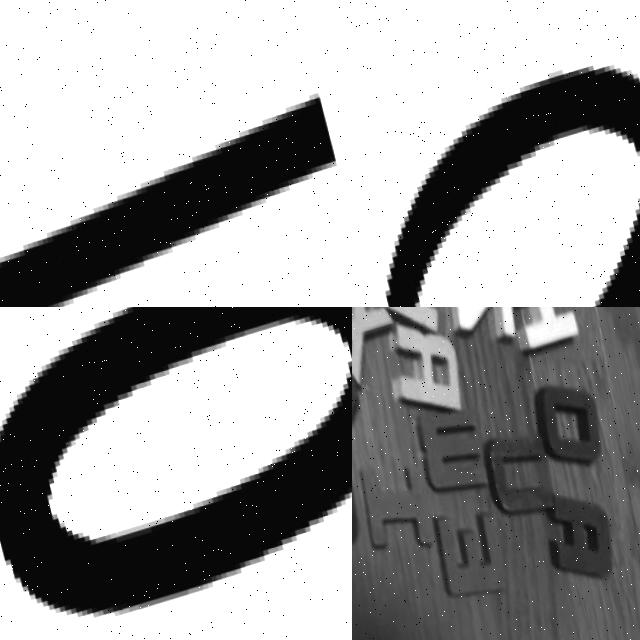6: (352, 0, 640, 307)
A: (540, 494, 617, 595)
E: (421, 513, 508, 617)
H: (496, 307, 578, 366)
I: (352, 454, 434, 569)
L: (0, 0, 352, 307), (357, 307, 439, 352)
O: (528, 378, 606, 483)
Q: (0, 307, 352, 640)
R: (379, 319, 466, 420)
U: (475, 438, 559, 543)
W: (410, 406, 491, 512)
X: (352, 307, 400, 385)
Z: (430, 307, 522, 359)
